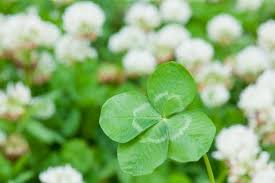4-clover: (97, 61, 216, 175)
